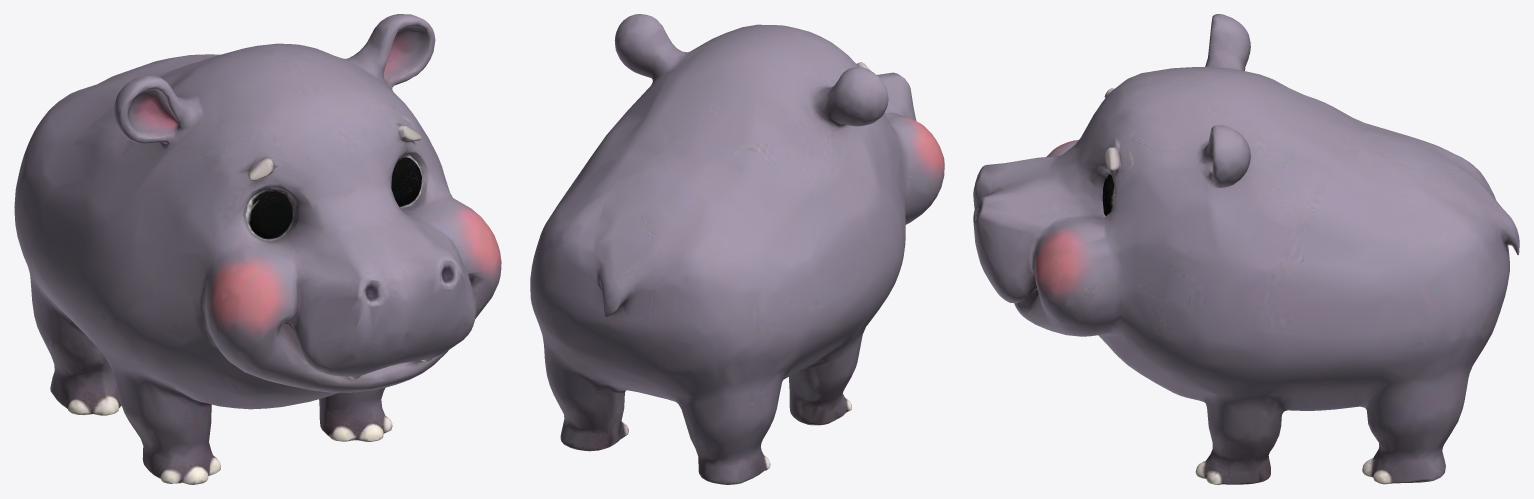
Rendered from hippo.glb.
3 renders of one model, left to right at view 1: azimuth 30°, elevation 25°; view 2: azimuth 150°, elevation 25°; view 3: azimuth 270°, elevation 25°, orthographic. The views are drawn at different scales.
Bounding box in the file's own units: 1.22 × 1.39 × 1.9.
Materials: 1 (1 with a texture image).
